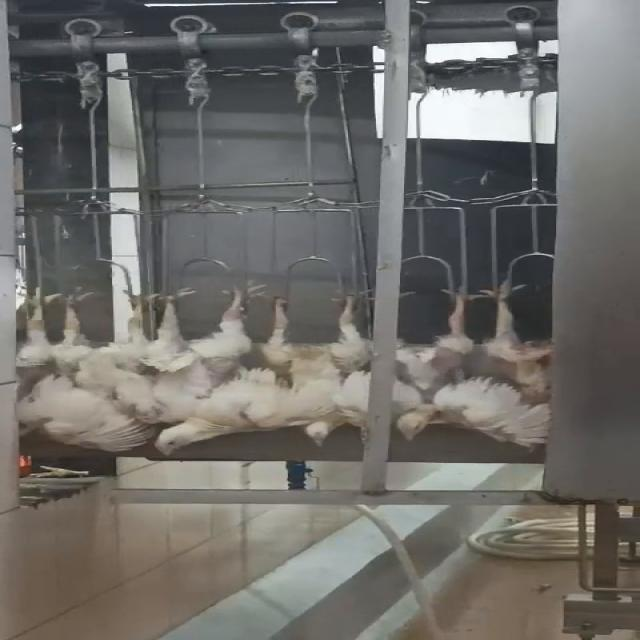chicken: (18, 282, 165, 457), (144, 274, 272, 453), (258, 279, 370, 447), (475, 266, 560, 448), (393, 272, 480, 444)
